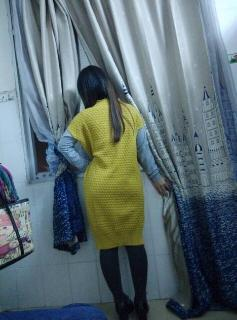long sleeve dress: (58, 98, 163, 251)
trousers: (85, 166, 148, 299)
